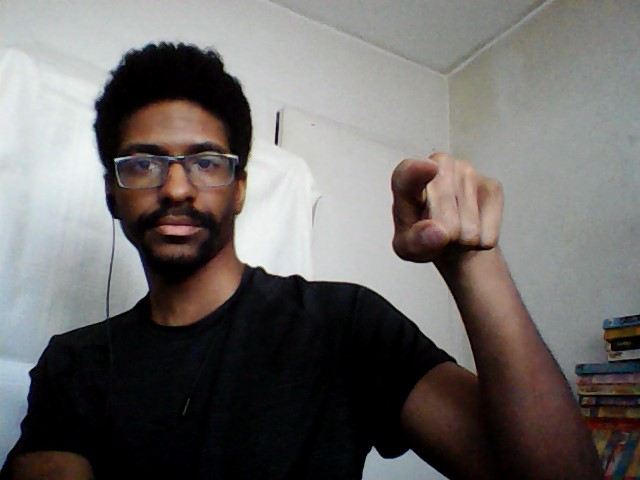z: (386, 146, 510, 268)
